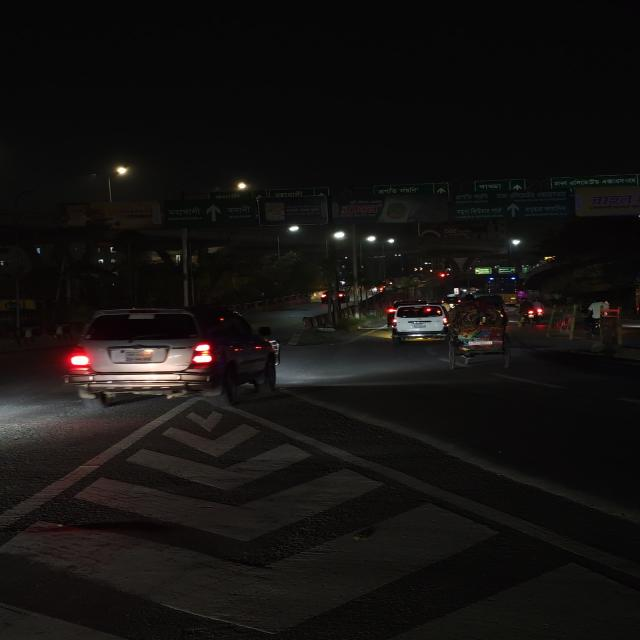car: (61, 304, 280, 410), (384, 301, 452, 345)
rickshaw: (446, 298, 515, 368)
